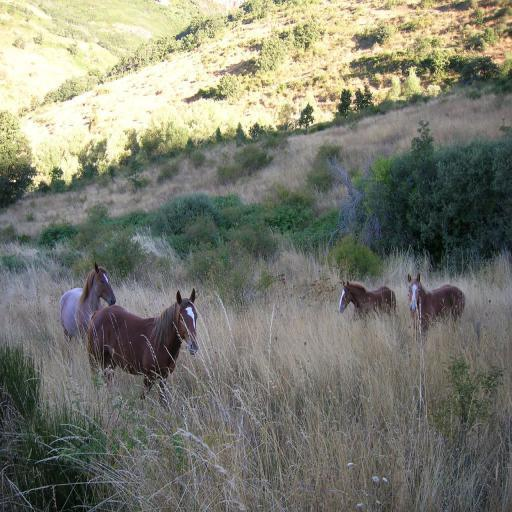horse: (87, 286, 200, 410), (56, 259, 118, 343), (406, 274, 467, 334), (338, 276, 398, 322)
